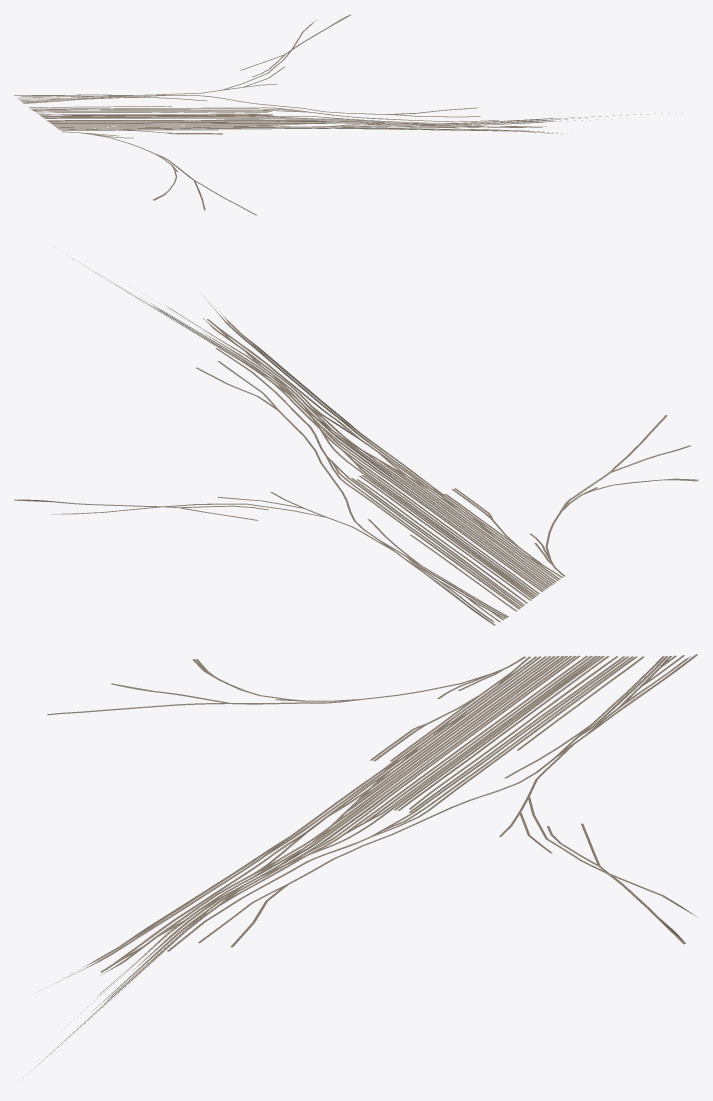
The model's file is rail_0_1.glb.
3 renders of one model, top to bottom at view 1: azimuth 30°, elevation 25°; view 2: azimuth 150°, elevation 25°; view 3: azimuth 270°, elevation 25°, orthographic. The views are drawn at different scales.
Visible parts, largest first — view 1: geometry_0; view 2: geometry_0; view 3: geometry_0.
Boxes of the visible parts, bbox=[...] form: geometry_0: bbox=[14, 14, 682, 215]; geometry_0: bbox=[14, 255, 698, 625]; geometry_0: bbox=[19, 654, 697, 1081].
Size of the model in its own units: 1374 by 15.38 by 913.
